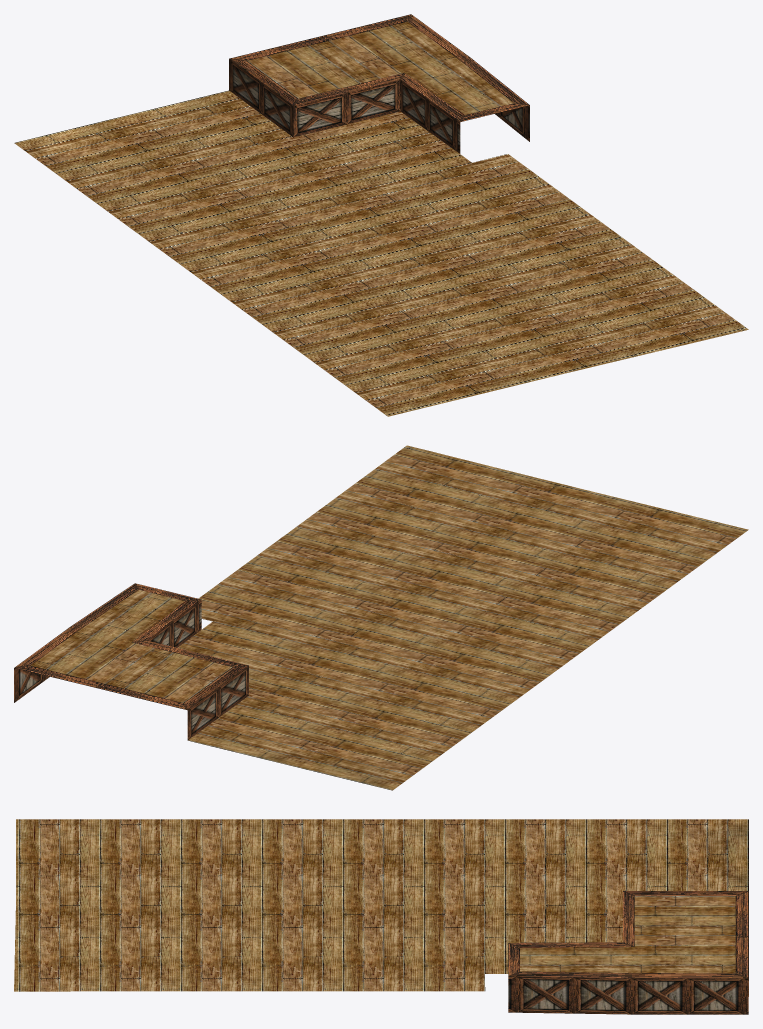
Rendered from LAKETOWN_WAREHOUSE3_PS_WH3_FLOORPAD99484__GX.obj.
3 views of the same model, one above another, from view 1: azimuth 30°, elevation 25°; view 2: azimuth 150°, elevation 25°; view 3: azimuth 270°, elevation 25° (orthographic). The views are drawn at different scales.
Visible parts, largest first — view 1: oorPad99484__GX; view 2: oorPad99484__GX; view 3: oorPad99484__GX.
Part boxes in pixels (x1,y1,x2,y2): oorPad99484__GX: (14,14,748,416); oorPad99484__GX: (14,445,748,790); oorPad99484__GX: (14,819,748,1014).
Size of the model in its own units: 1111 by 99.08 by 1816.
